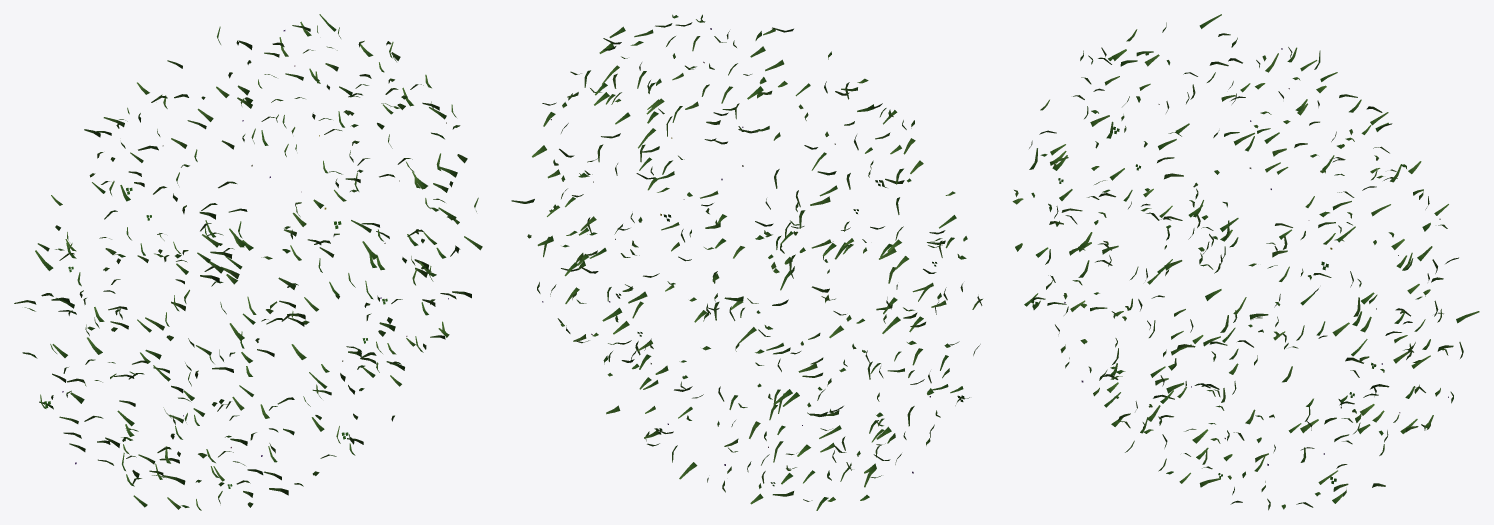
Rendered from Grass_Tile_Ramble.glb.
3 views of the same model, side by side, from view 1: azimuth 30°, elevation 25°; view 2: azimuth 150°, elevation 25°; view 3: azimuth 330°, elevation 25° (orthographic).
Visible parts, largest first — view 1: Grass_Tile_Ramble; view 2: Grass_Tile_Ramble; view 3: Grass_Tile_Ramble.
Boxes of the visible parts, x1,y1,x2,y2 form: Grass_Tile_Ramble: (14,14,482,510); Grass_Tile_Ramble: (511,14,982,510); Grass_Tile_Ramble: (1012,14,1479,510).
Size of the model in its own units: 1.63 by 1.61 by 0.0856.
